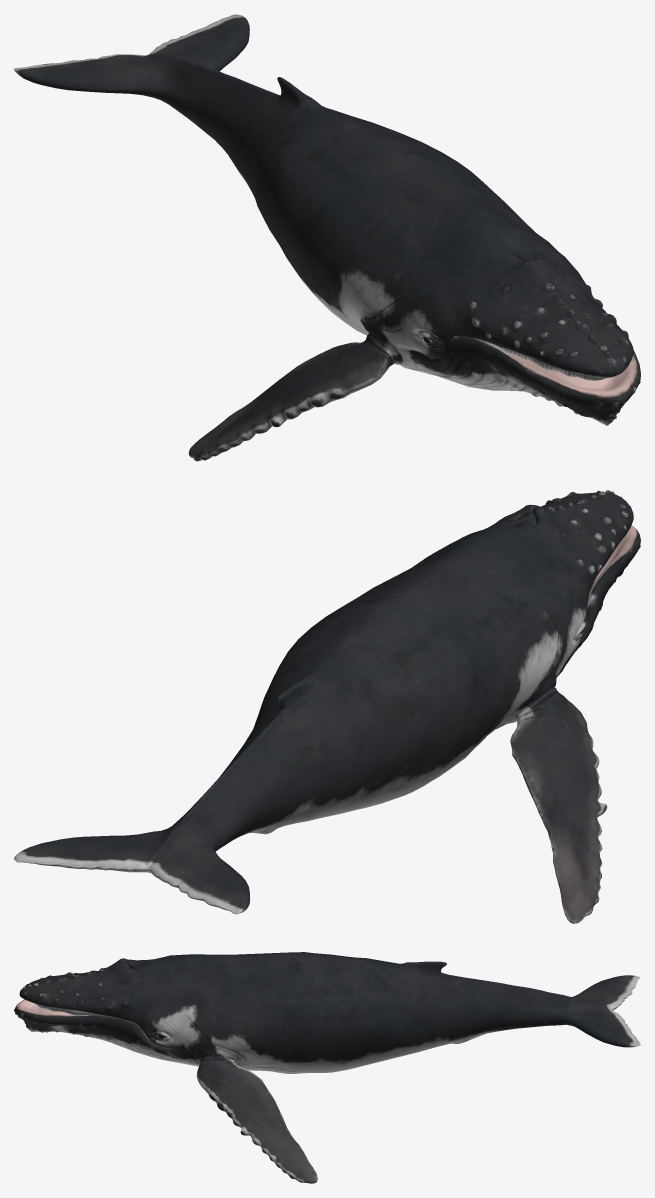
File: whale.glb
The picture shows the model from 3 angles, top to bottom: view 1: azimuth 30°, elevation 25°; view 2: azimuth 150°, elevation 25°; view 3: azimuth 270°, elevation 25°; orthographic projection. The views are drawn at different scales.
Visible parts, largest first — view 1: humpback_whale_LOD2.1; view 2: humpback_whale_LOD2.1; view 3: humpback_whale_LOD2.1.
Boxes of the visible parts, box(x1,y1,x2,y2) form: humpback_whale_LOD2.1: box(14, 14, 640, 461); humpback_whale_LOD2.1: box(14, 490, 640, 923); humpback_whale_LOD2.1: box(14, 952, 640, 1183).
Bounding box in the file's own units: 1.59 × 1.02 × 3.46.
1 material, 1 textured.
